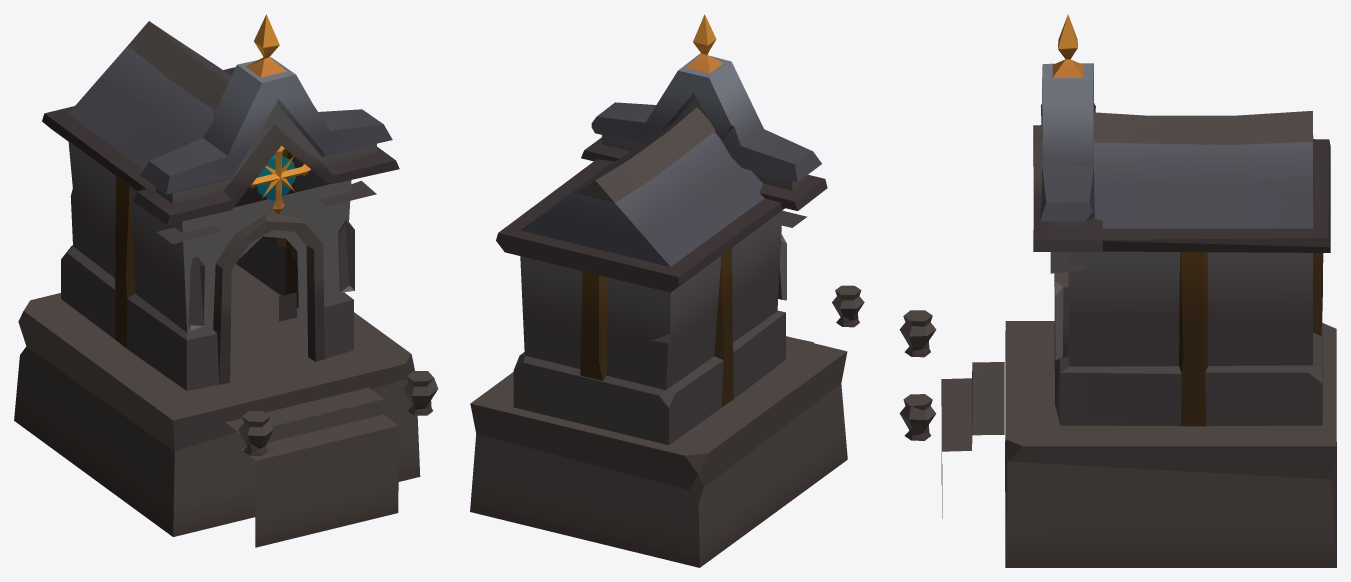
File: Crypt_03_3.fbx
The picture shows the model from 3 angles, left to right: view 1: azimuth 30°, elevation 25°; view 2: azimuth 150°, elevation 25°; view 3: azimuth 270°, elevation 25°; orthographic projection. The views are drawn at different scales.
Visible parts, largest first — view 1: Crypt_03_3; view 2: Crypt_03_3; view 3: Crypt_03_3.
Boxes of the visible parts, left/top/right/bottom form: Crypt_03_3: left=14, top=14, right=438, bottom=547; Crypt_03_3: left=470, top=14, right=864, bottom=567; Crypt_03_3: left=899, top=14, right=1336, bottom=567.
Bounding box in the file's own units: 608 × 1110 × 901.
